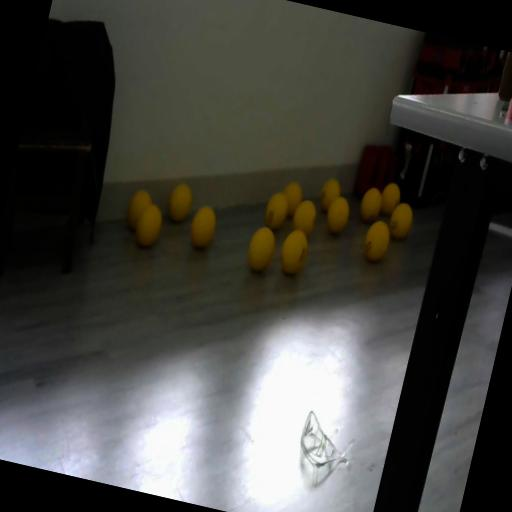FUEL: (275, 226, 312, 279), (243, 224, 279, 275), (185, 202, 221, 252), (360, 216, 395, 265), (123, 186, 156, 234), (164, 180, 196, 224), (289, 196, 321, 239), (323, 194, 353, 236), (386, 200, 416, 241), (277, 178, 306, 220), (357, 185, 385, 225), (376, 179, 404, 218)
